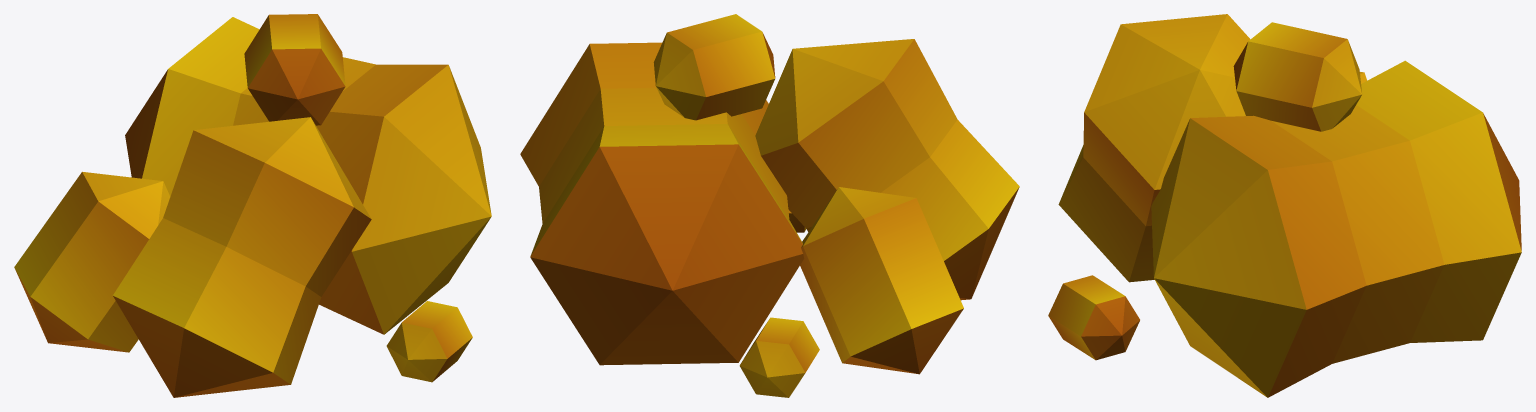
The model's file is Topaz_05.glb.
The picture shows the model from 3 angles, left to right: view 1: azimuth 30°, elevation 25°; view 2: azimuth 150°, elevation 25°; view 3: azimuth 270°, elevation 25°; orthographic projection. The views are drawn at different scales.
Parts seen in each view (by area): view 1: Topaz_05; view 2: Topaz_05; view 3: Topaz_05.
Boxes of the visible parts, x1,y1,x2,y2 form: Topaz_05: [14, 14, 491, 397]; Topaz_05: [520, 14, 1019, 397]; Topaz_05: [1048, 14, 1521, 397].
Size of the model in its own units: 0.6661 by 0.391 by 0.5852.
1 material, 1 textured.
